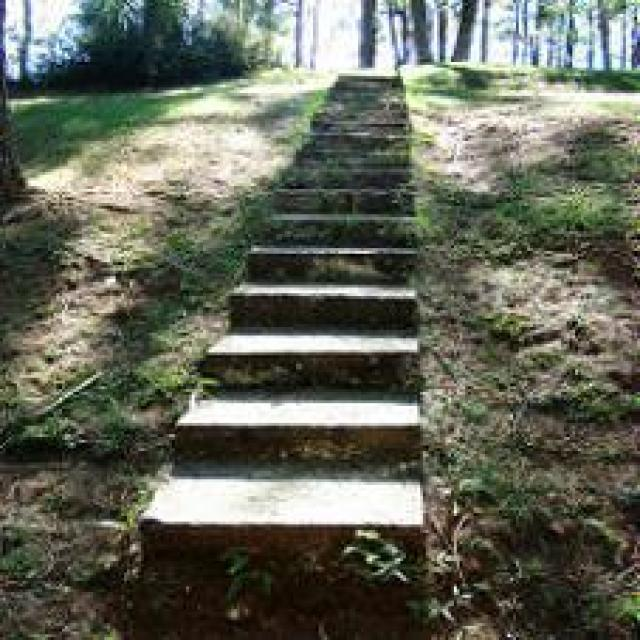upstair: (105, 224, 492, 542)
